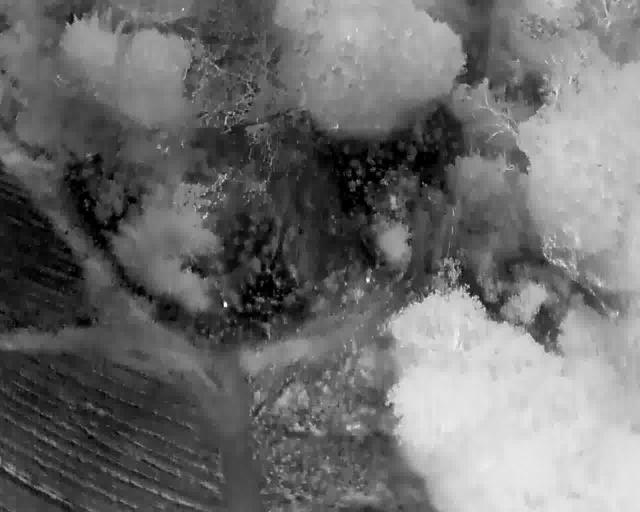car: (274, 9, 290, 33)
